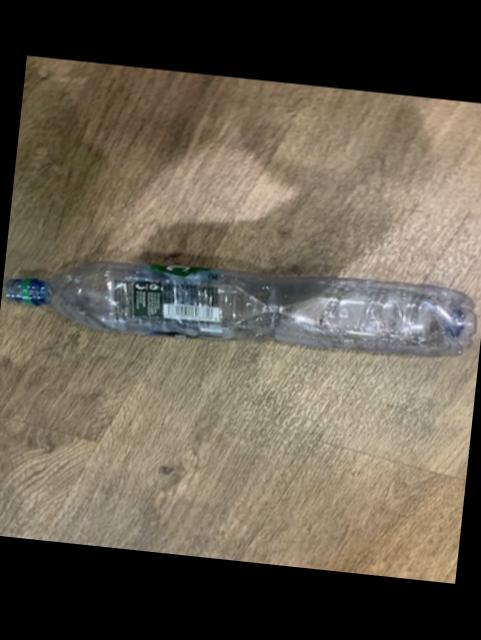plastic: (3, 260, 472, 354)
